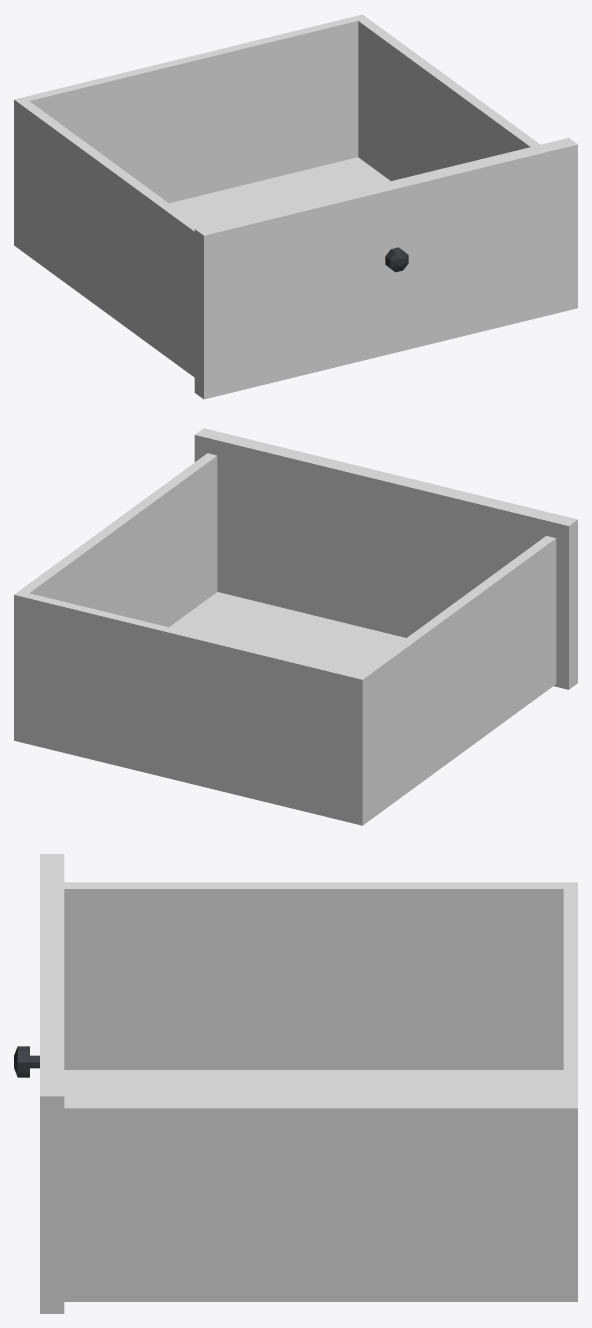
Rendered from Door3_C1_05.fbx.
3 renders of one model, top to bottom at view 1: azimuth 30°, elevation 25°; view 2: azimuth 150°, elevation 25°; view 3: azimuth 270°, elevation 25°, orthographic. The views are drawn at different scales.
Parts seen in each view (by area): view 1: Door3_C1_05; view 2: Door3_C1_05; view 3: Door3_C1_05.
Boxes of the visible parts, x1,y1,x2,y2 form: Door3_C1_05: (14,14,577,399); Door3_C1_05: (14,428,577,825); Door3_C1_05: (14,854,577,1313).
Bounding box in the file's own units: 59 × 24.68 × 58.03.
